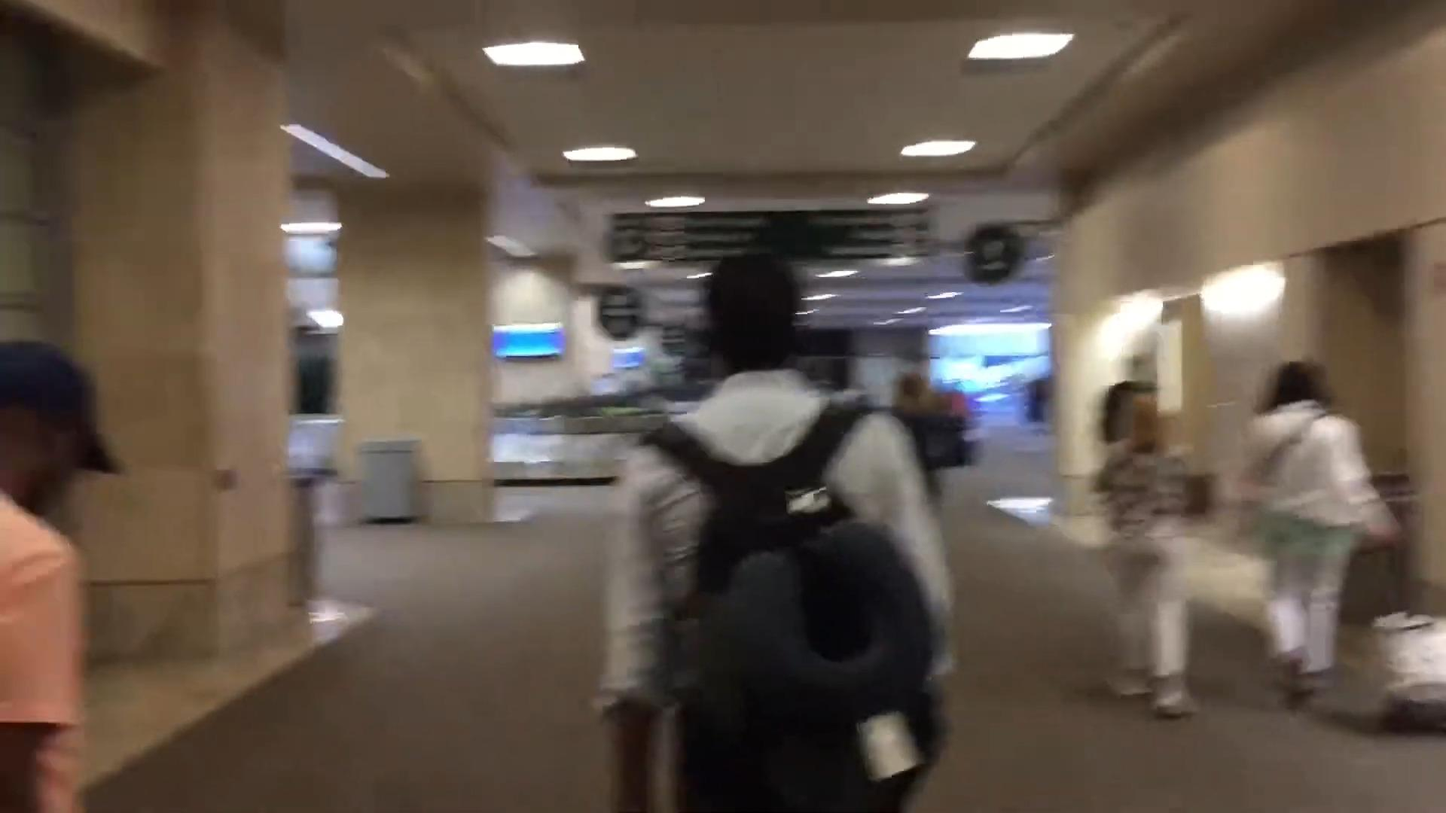luggage: (1368, 608, 1446, 721), (959, 435, 984, 466)
